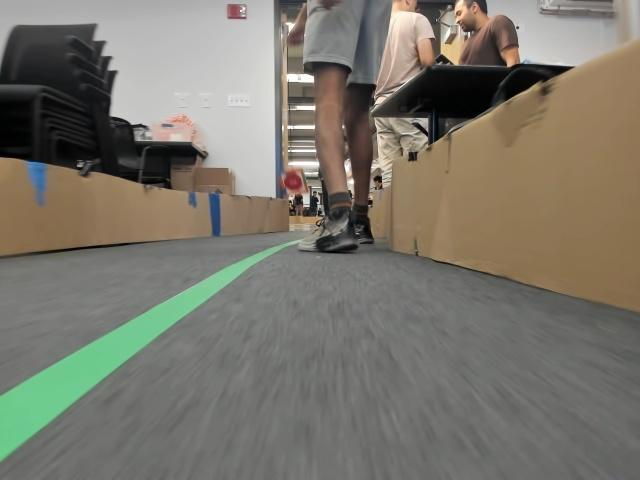Stop: (283, 173, 301, 190)
